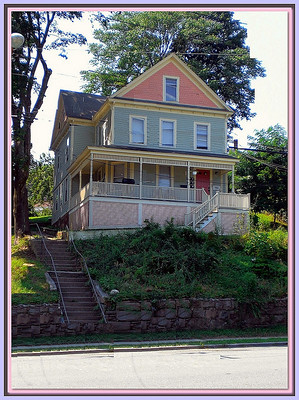low: (48, 52, 252, 246)
